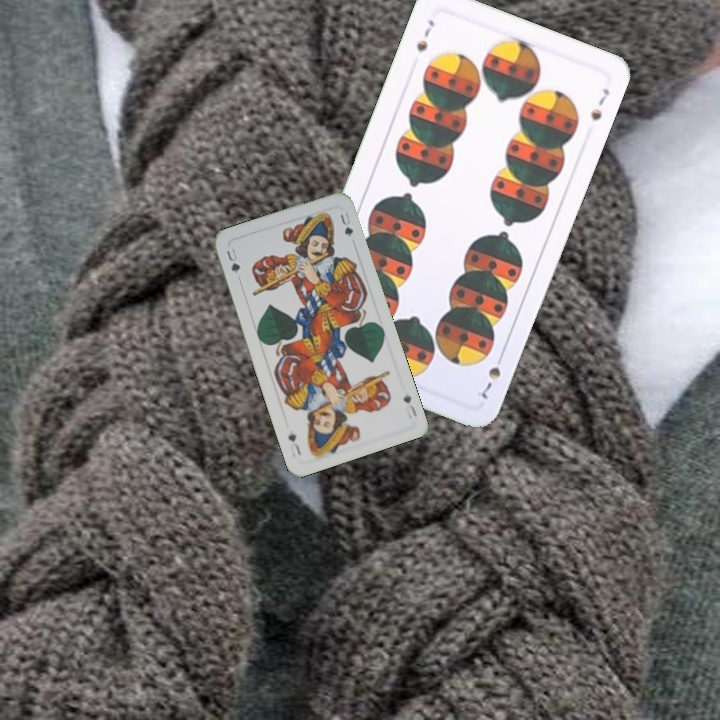GU: (222, 243, 243, 276), (399, 391, 419, 420)
S7: (477, 348, 507, 402), (412, 16, 437, 54)
